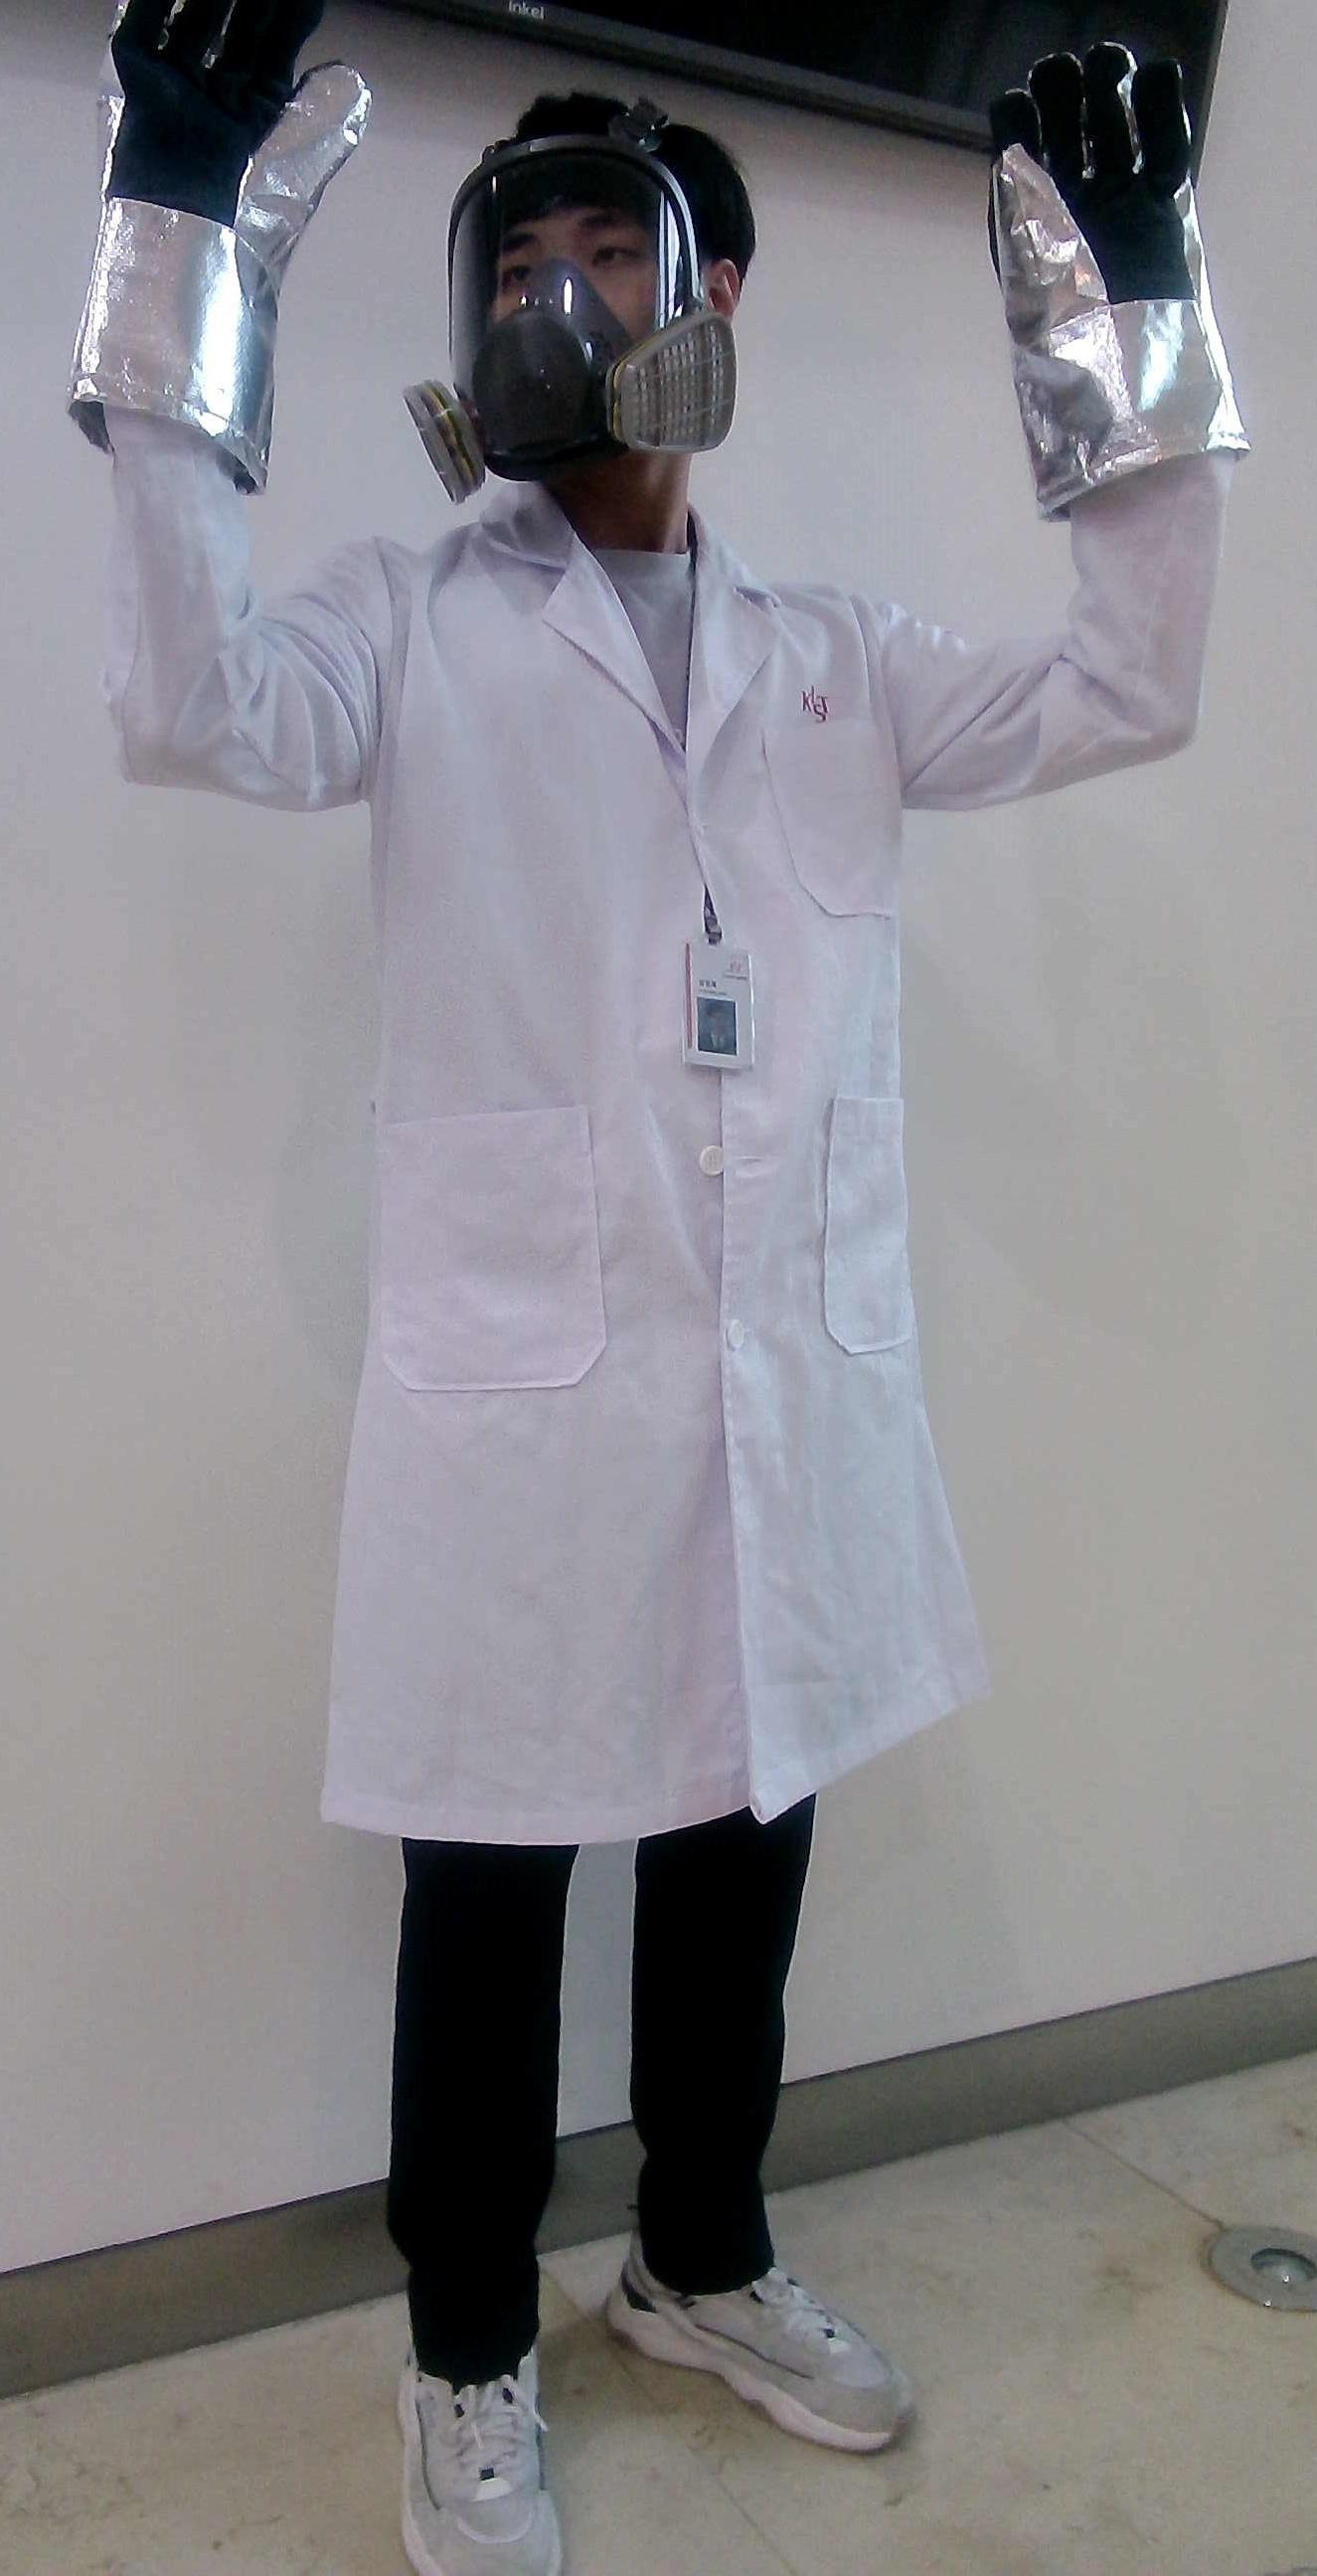lab_coat: (81, 499, 1250, 1822)
